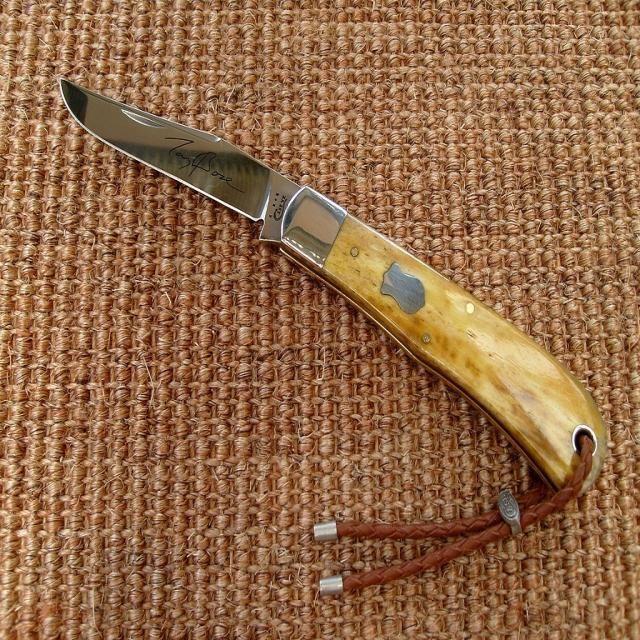Knife: (60, 80, 604, 489)
